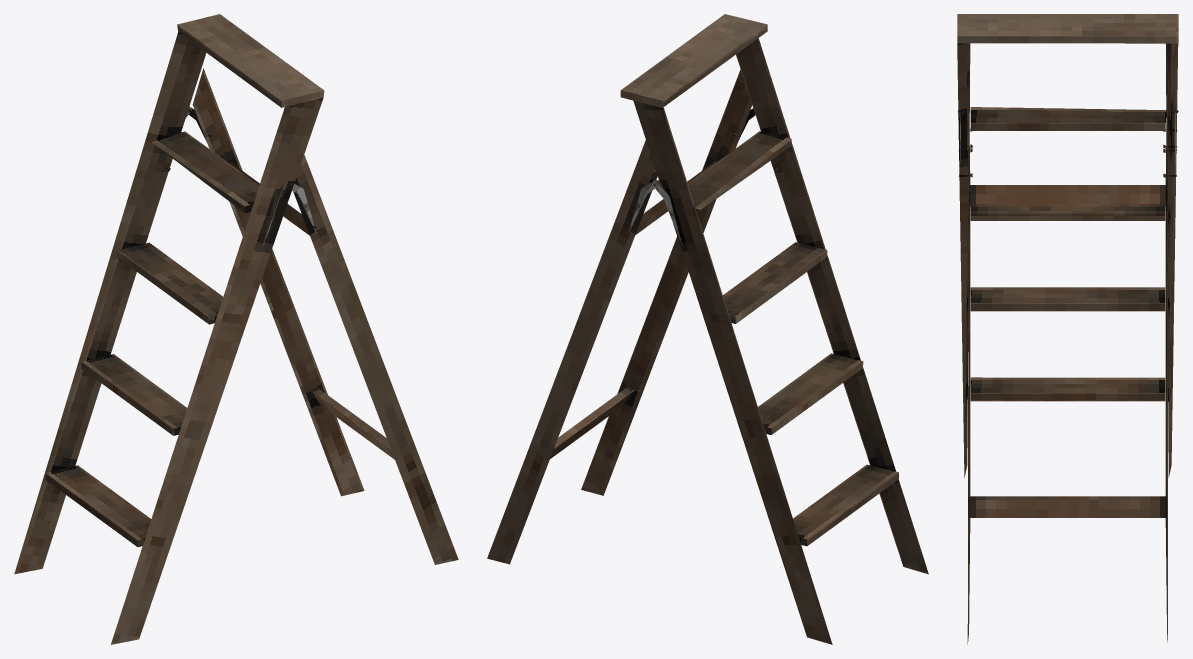
The model's file is wooden_ladder.glb.
3 renders of one model, left to right at view 1: azimuth 30°, elevation 25°; view 2: azimuth 150°, elevation 25°; view 3: azimuth 270°, elevation 25°, orthographic. The views are drawn at different scales.
Parts seen in each view (by area): view 1: wooden_ladder; view 2: wooden_ladder; view 3: wooden_ladder.
Part boxes in pixels (x1,y1,x2,y2): wooden_ladder: (14, 14, 458, 644); wooden_ladder: (487, 14, 928, 644); wooden_ladder: (957, 14, 1178, 644).
Size of the model in its own units: 0.9592 by 1.33 by 0.4989.
Materials: 1 (1 with a texture image).
